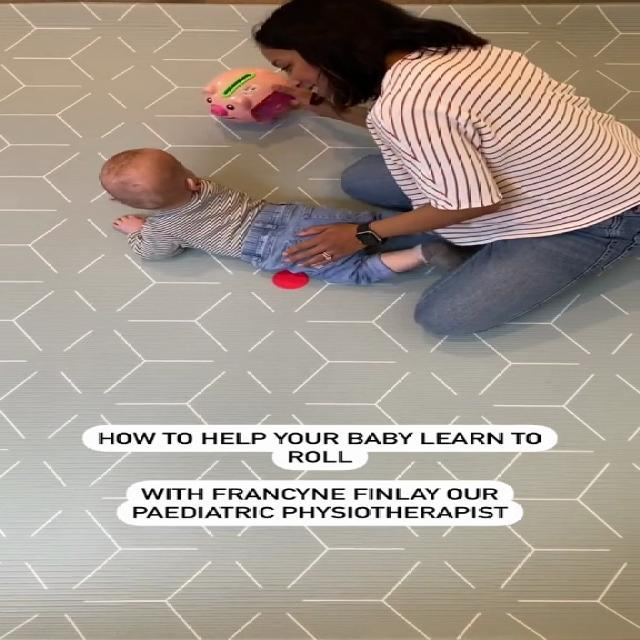baby: (91, 147, 457, 292)
